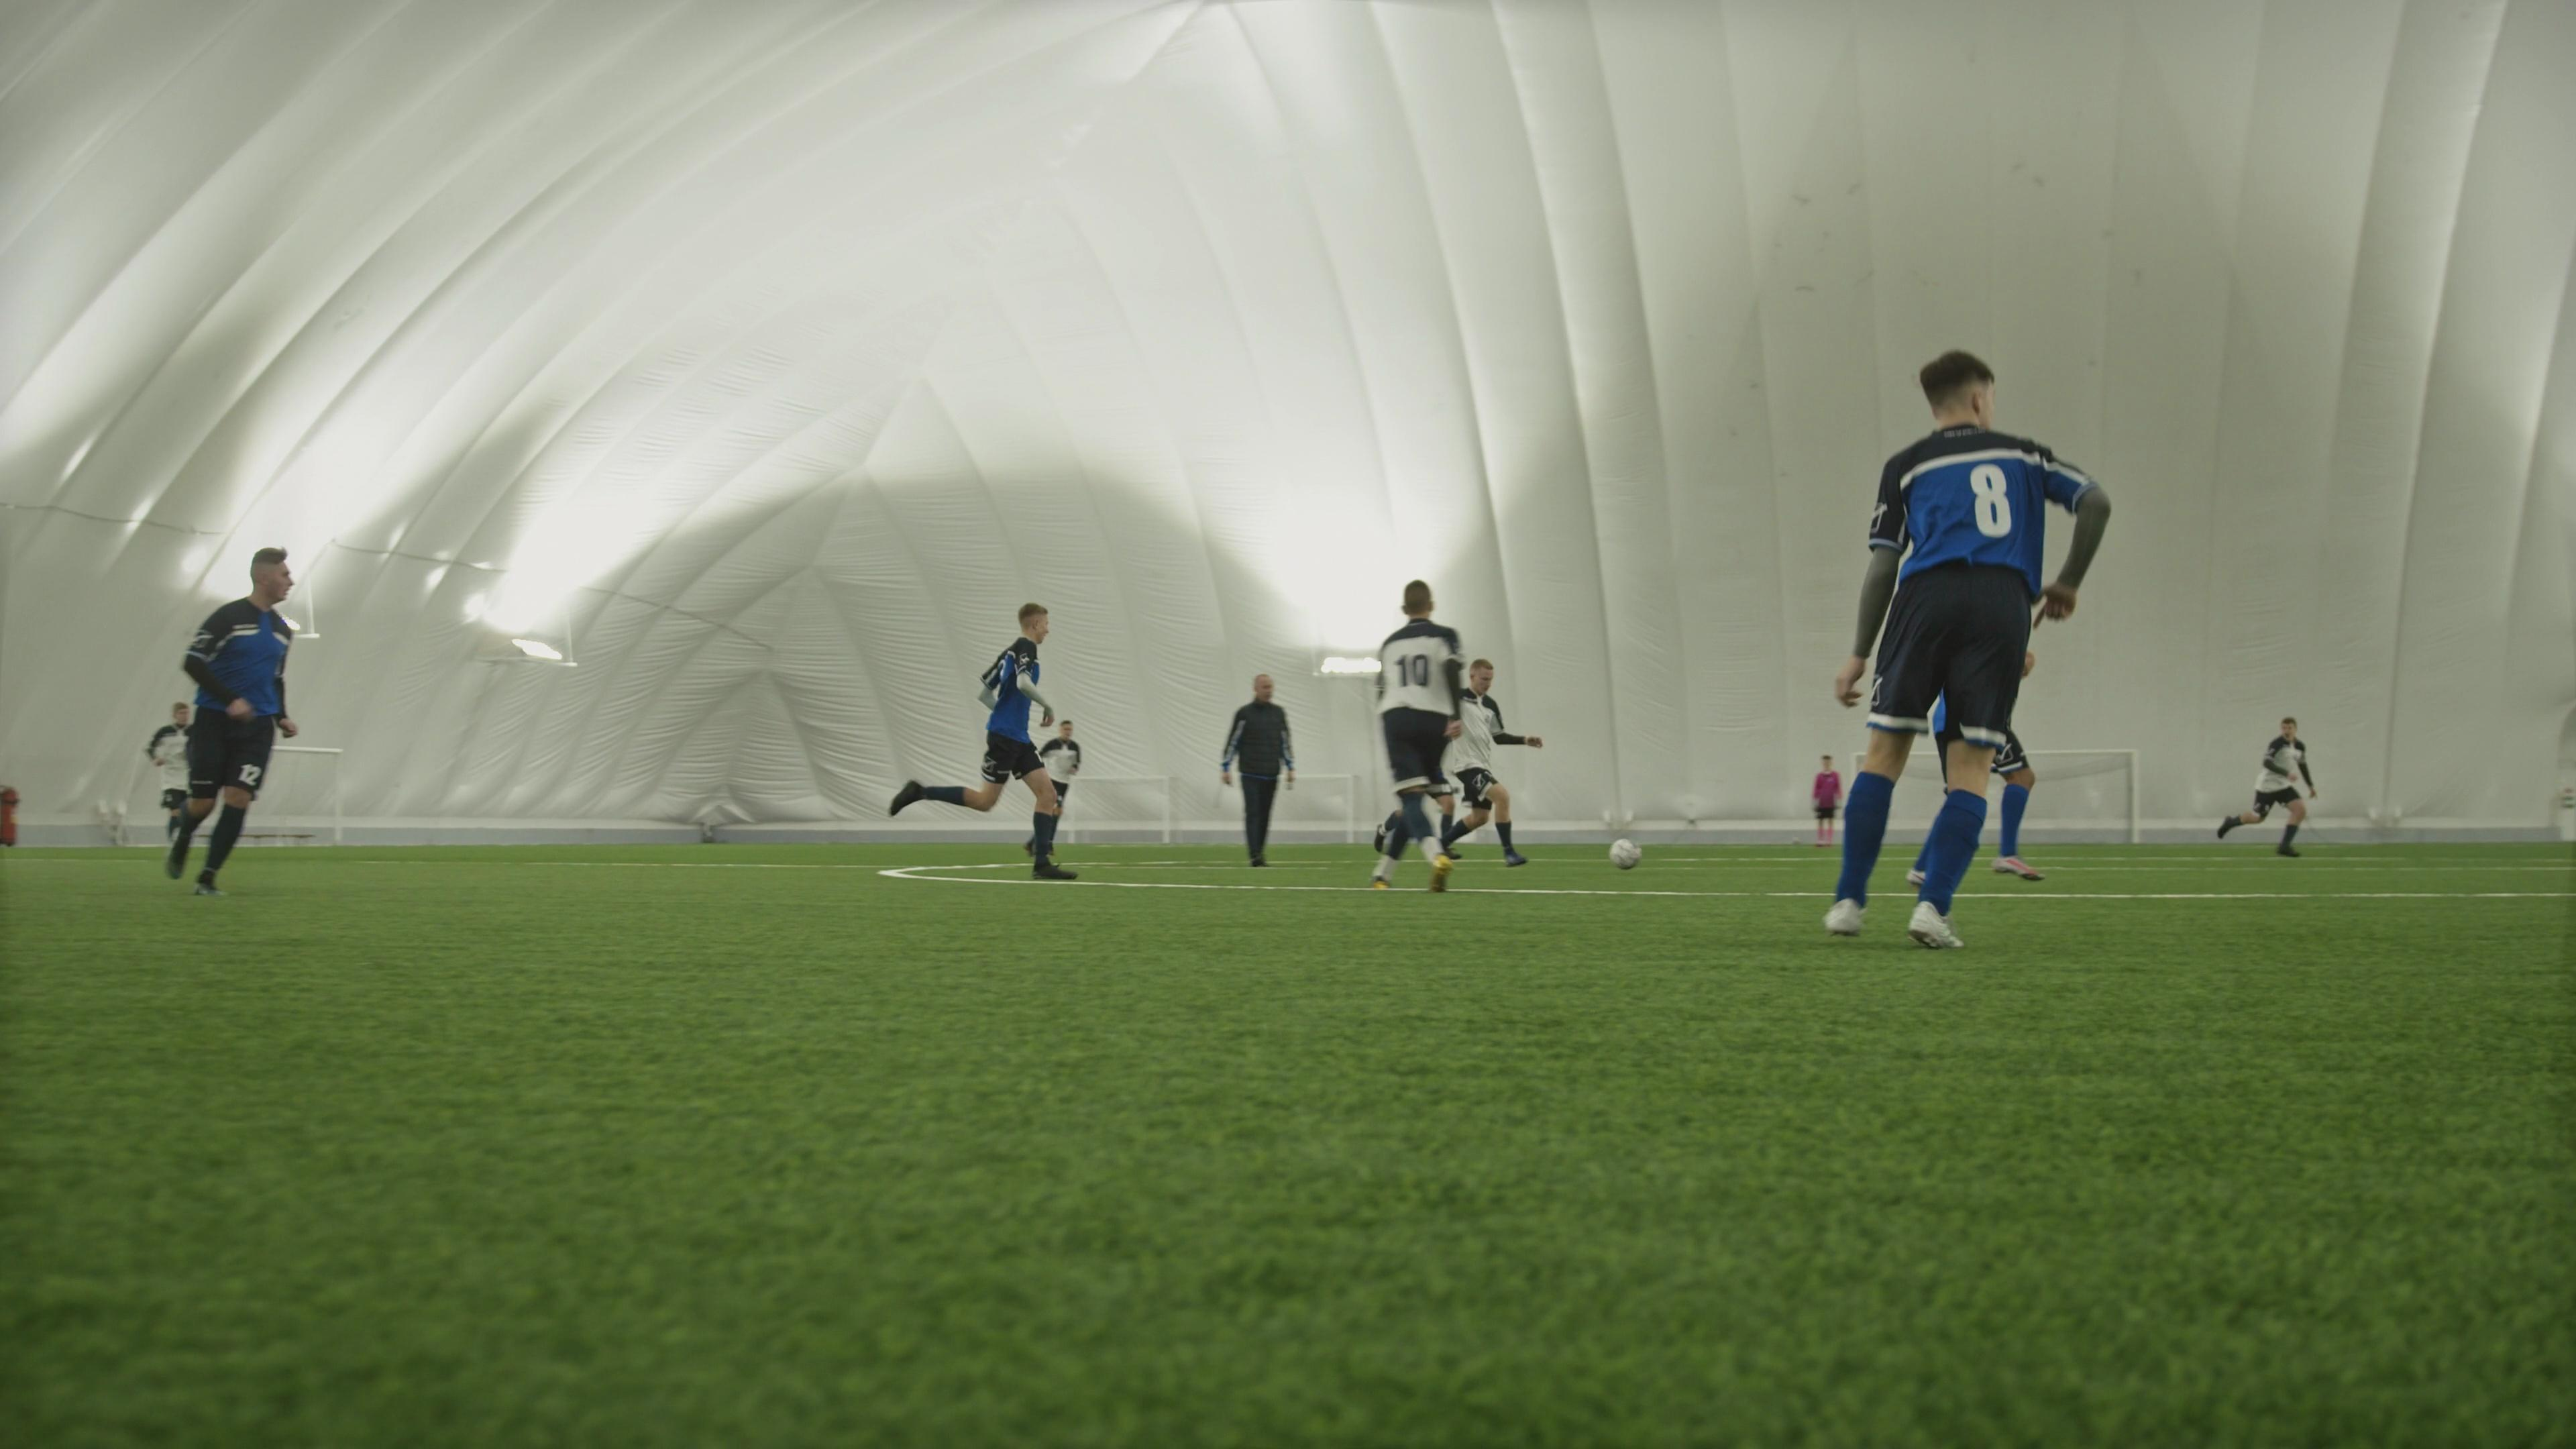other: (1221, 676, 1297, 869)
team1: (1819, 349, 2112, 948), (157, 547, 301, 895), (975, 602, 1081, 881), (973, 605, 1067, 814), (1019, 600, 1083, 881)
team1gk: (1806, 745, 1849, 842)
team2: (1368, 579, 1472, 890), (1422, 656, 1539, 878), (2210, 713, 2316, 858), (1019, 692, 1083, 881), (143, 695, 195, 840)
